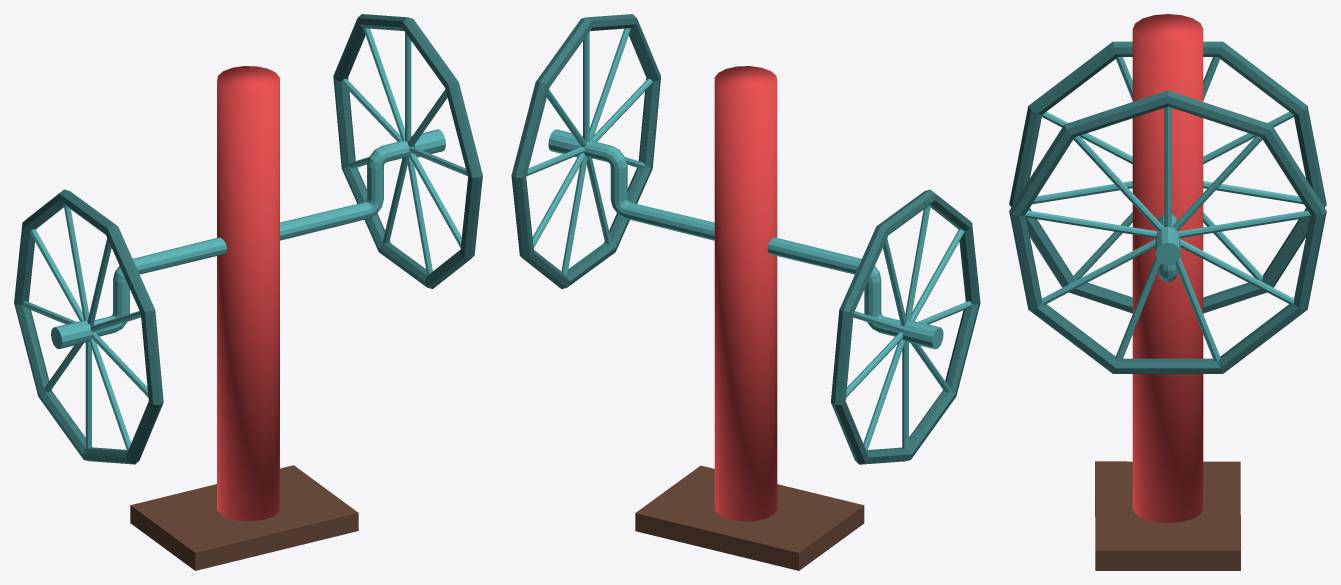
The model's file is D1_GYM2.fbx.
3 renders of one model, left to right at view 1: azimuth 30°, elevation 25°; view 2: azimuth 150°, elevation 25°; view 3: azimuth 270°, elevation 25°, orthographic. The views are drawn at different scales.
Parts seen in each view (by area): view 1: D1_GIMNASIO2; view 2: D1_GIMNASIO2; view 3: D1_GIMNASIO2.
Boxes of the visible parts, <box> form: D1_GIMNASIO2: <box>14,14,482,570</box>; D1_GIMNASIO2: <box>511,14,980,570</box>; D1_GIMNASIO2: <box>1009,14,1326,570</box>.
Bounding box in the file's own units: 207 × 242 × 133.
